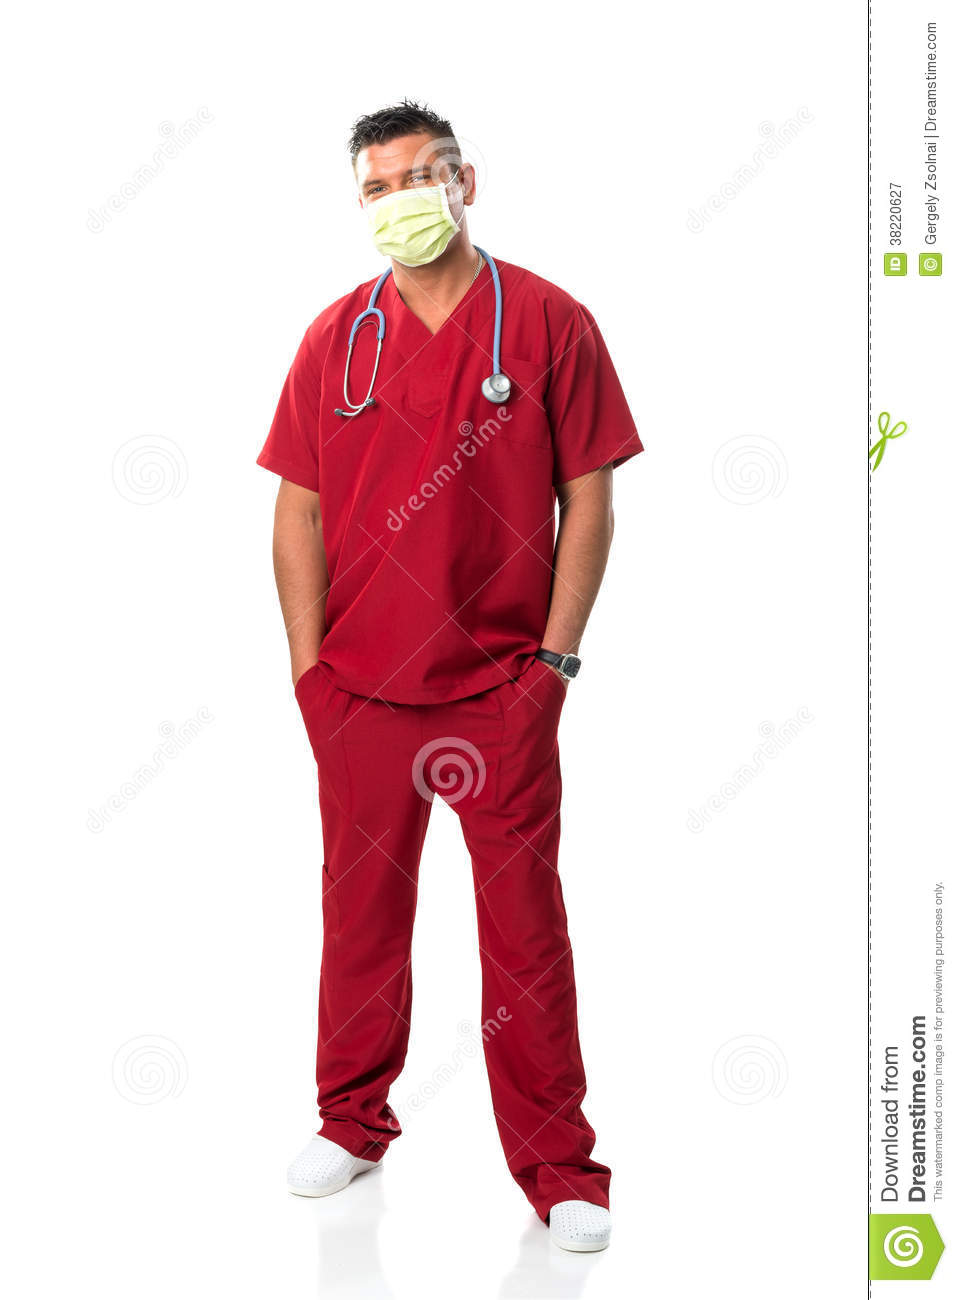mask: (359, 193, 475, 283)
